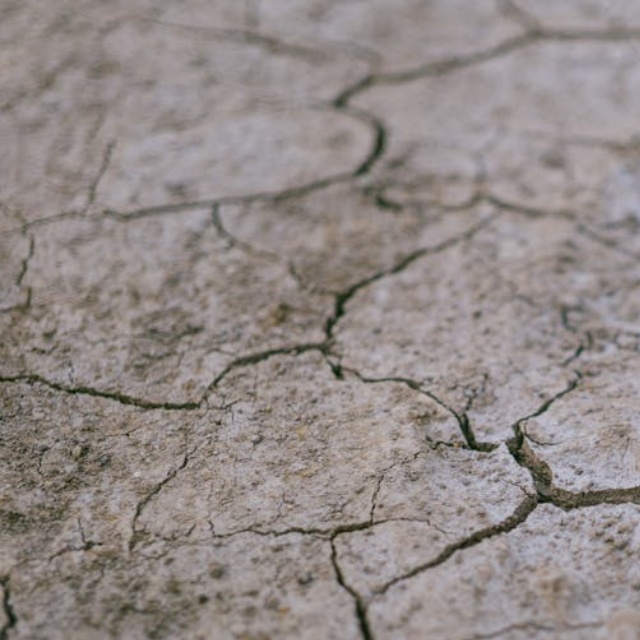细微裂纹: (278, 440, 433, 640)
网状裂隙: (295, 0, 640, 619), (456, 61, 640, 617), (422, 455, 636, 640)
